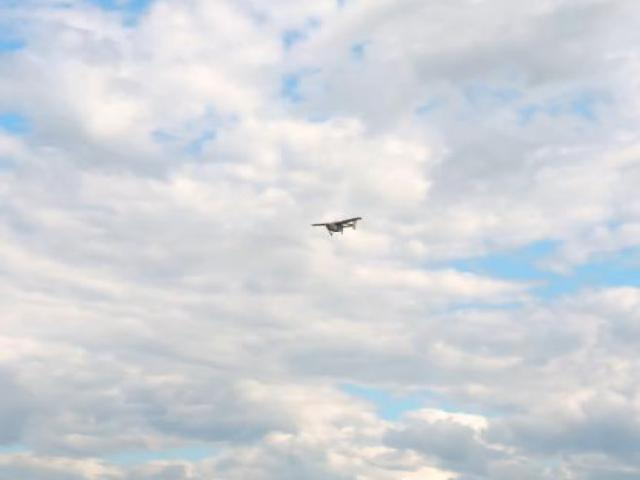uav: (311, 214, 363, 236)
